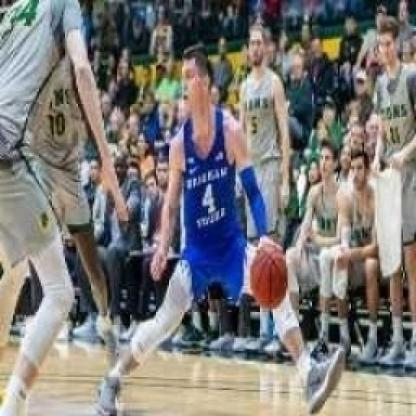basketball: (249, 244, 288, 307)
